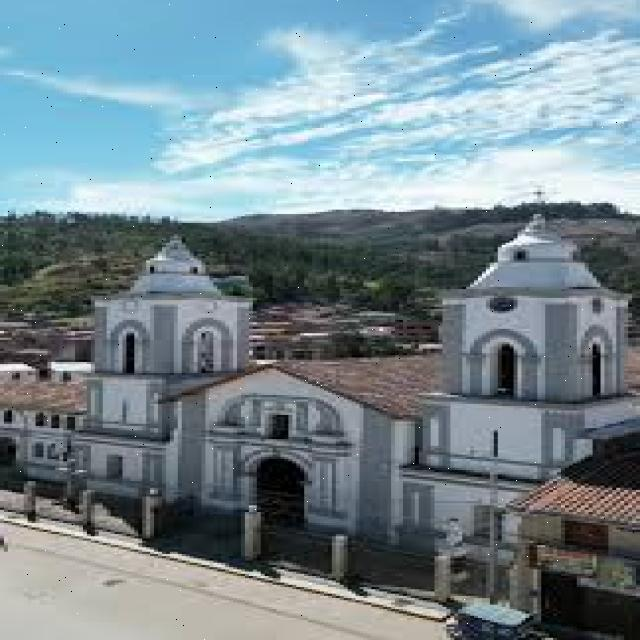CAMPANARIO: (436, 283, 633, 427), (69, 288, 261, 394)
CUPULA: (23, 160, 640, 633), (455, 223, 624, 300), (116, 239, 224, 305)
PORTADA CENTRAL: (230, 444, 329, 534)
TORRES: (411, 190, 640, 598), (90, 218, 261, 545)
